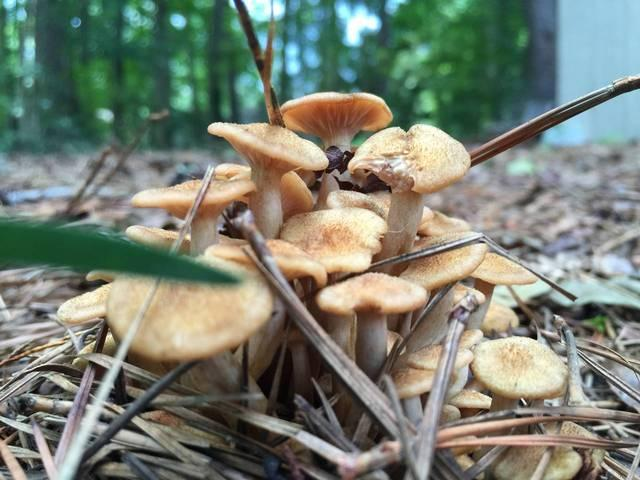edible_mushroom: (73, 92, 563, 463)
